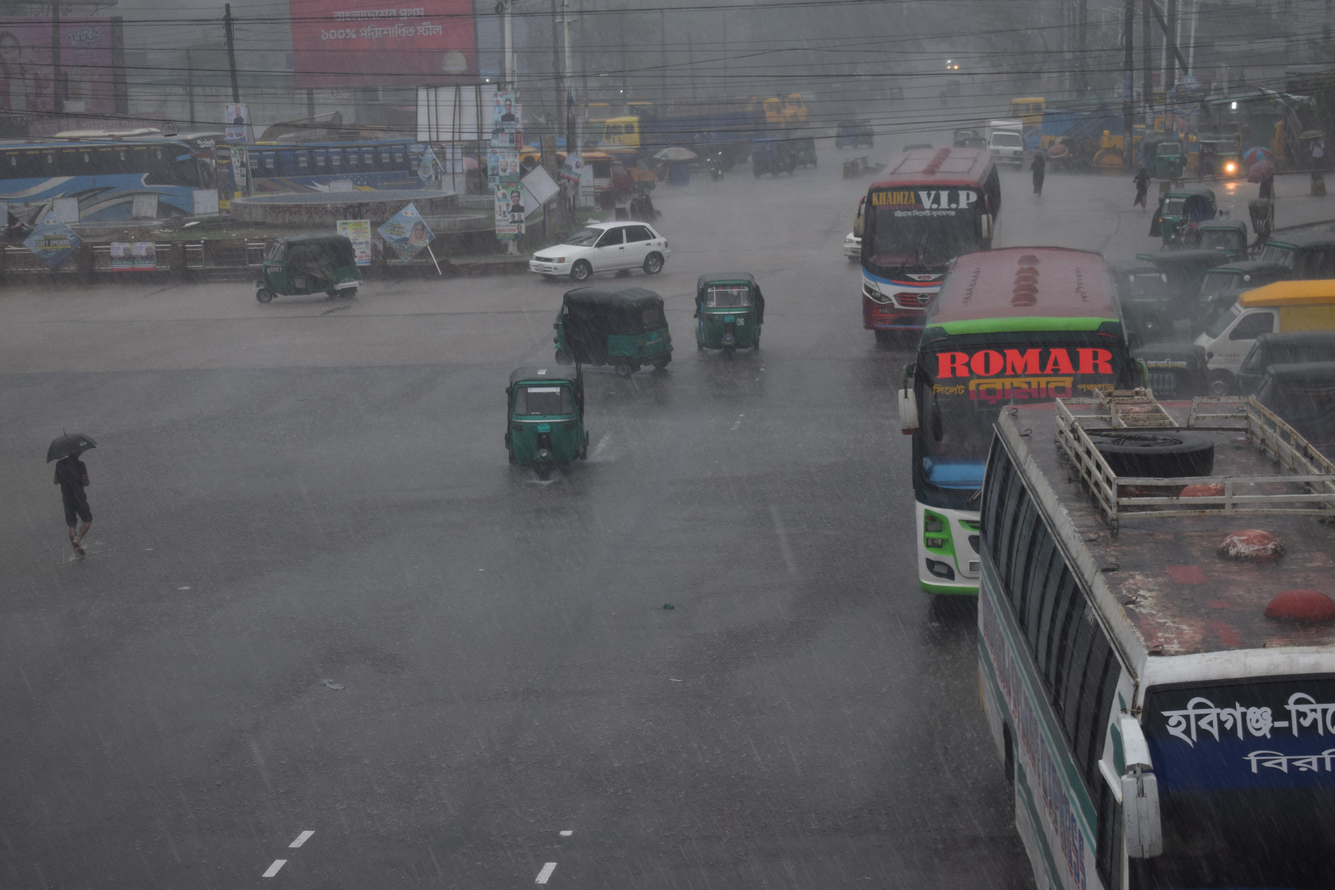Bus: (907, 364, 1335, 890), (878, 214, 1128, 613), (847, 113, 1012, 366), (0, 110, 252, 270), (209, 111, 462, 243)
Car: (1207, 261, 1335, 382), (519, 213, 700, 288)
Truck: (583, 90, 777, 178)
